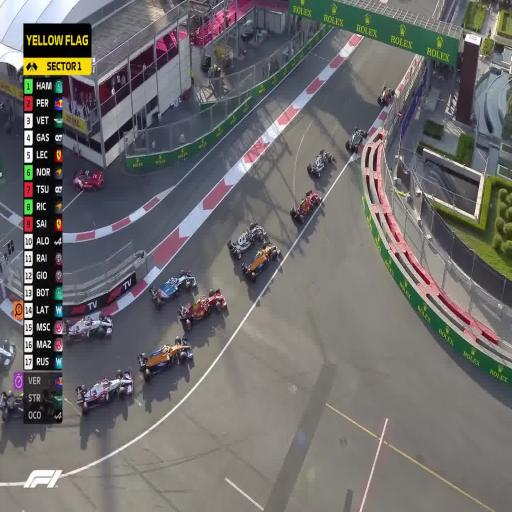f1_car: (138, 334, 193, 381), (76, 369, 133, 414), (177, 289, 227, 330), (149, 270, 197, 309), (241, 242, 281, 281), (227, 222, 268, 258), (63, 313, 112, 341), (290, 190, 322, 223), (28, 388, 62, 417), (307, 148, 335, 176), (0, 391, 25, 421), (0, 391, 23, 421), (346, 126, 368, 153), (0, 340, 16, 369), (378, 85, 395, 106)
